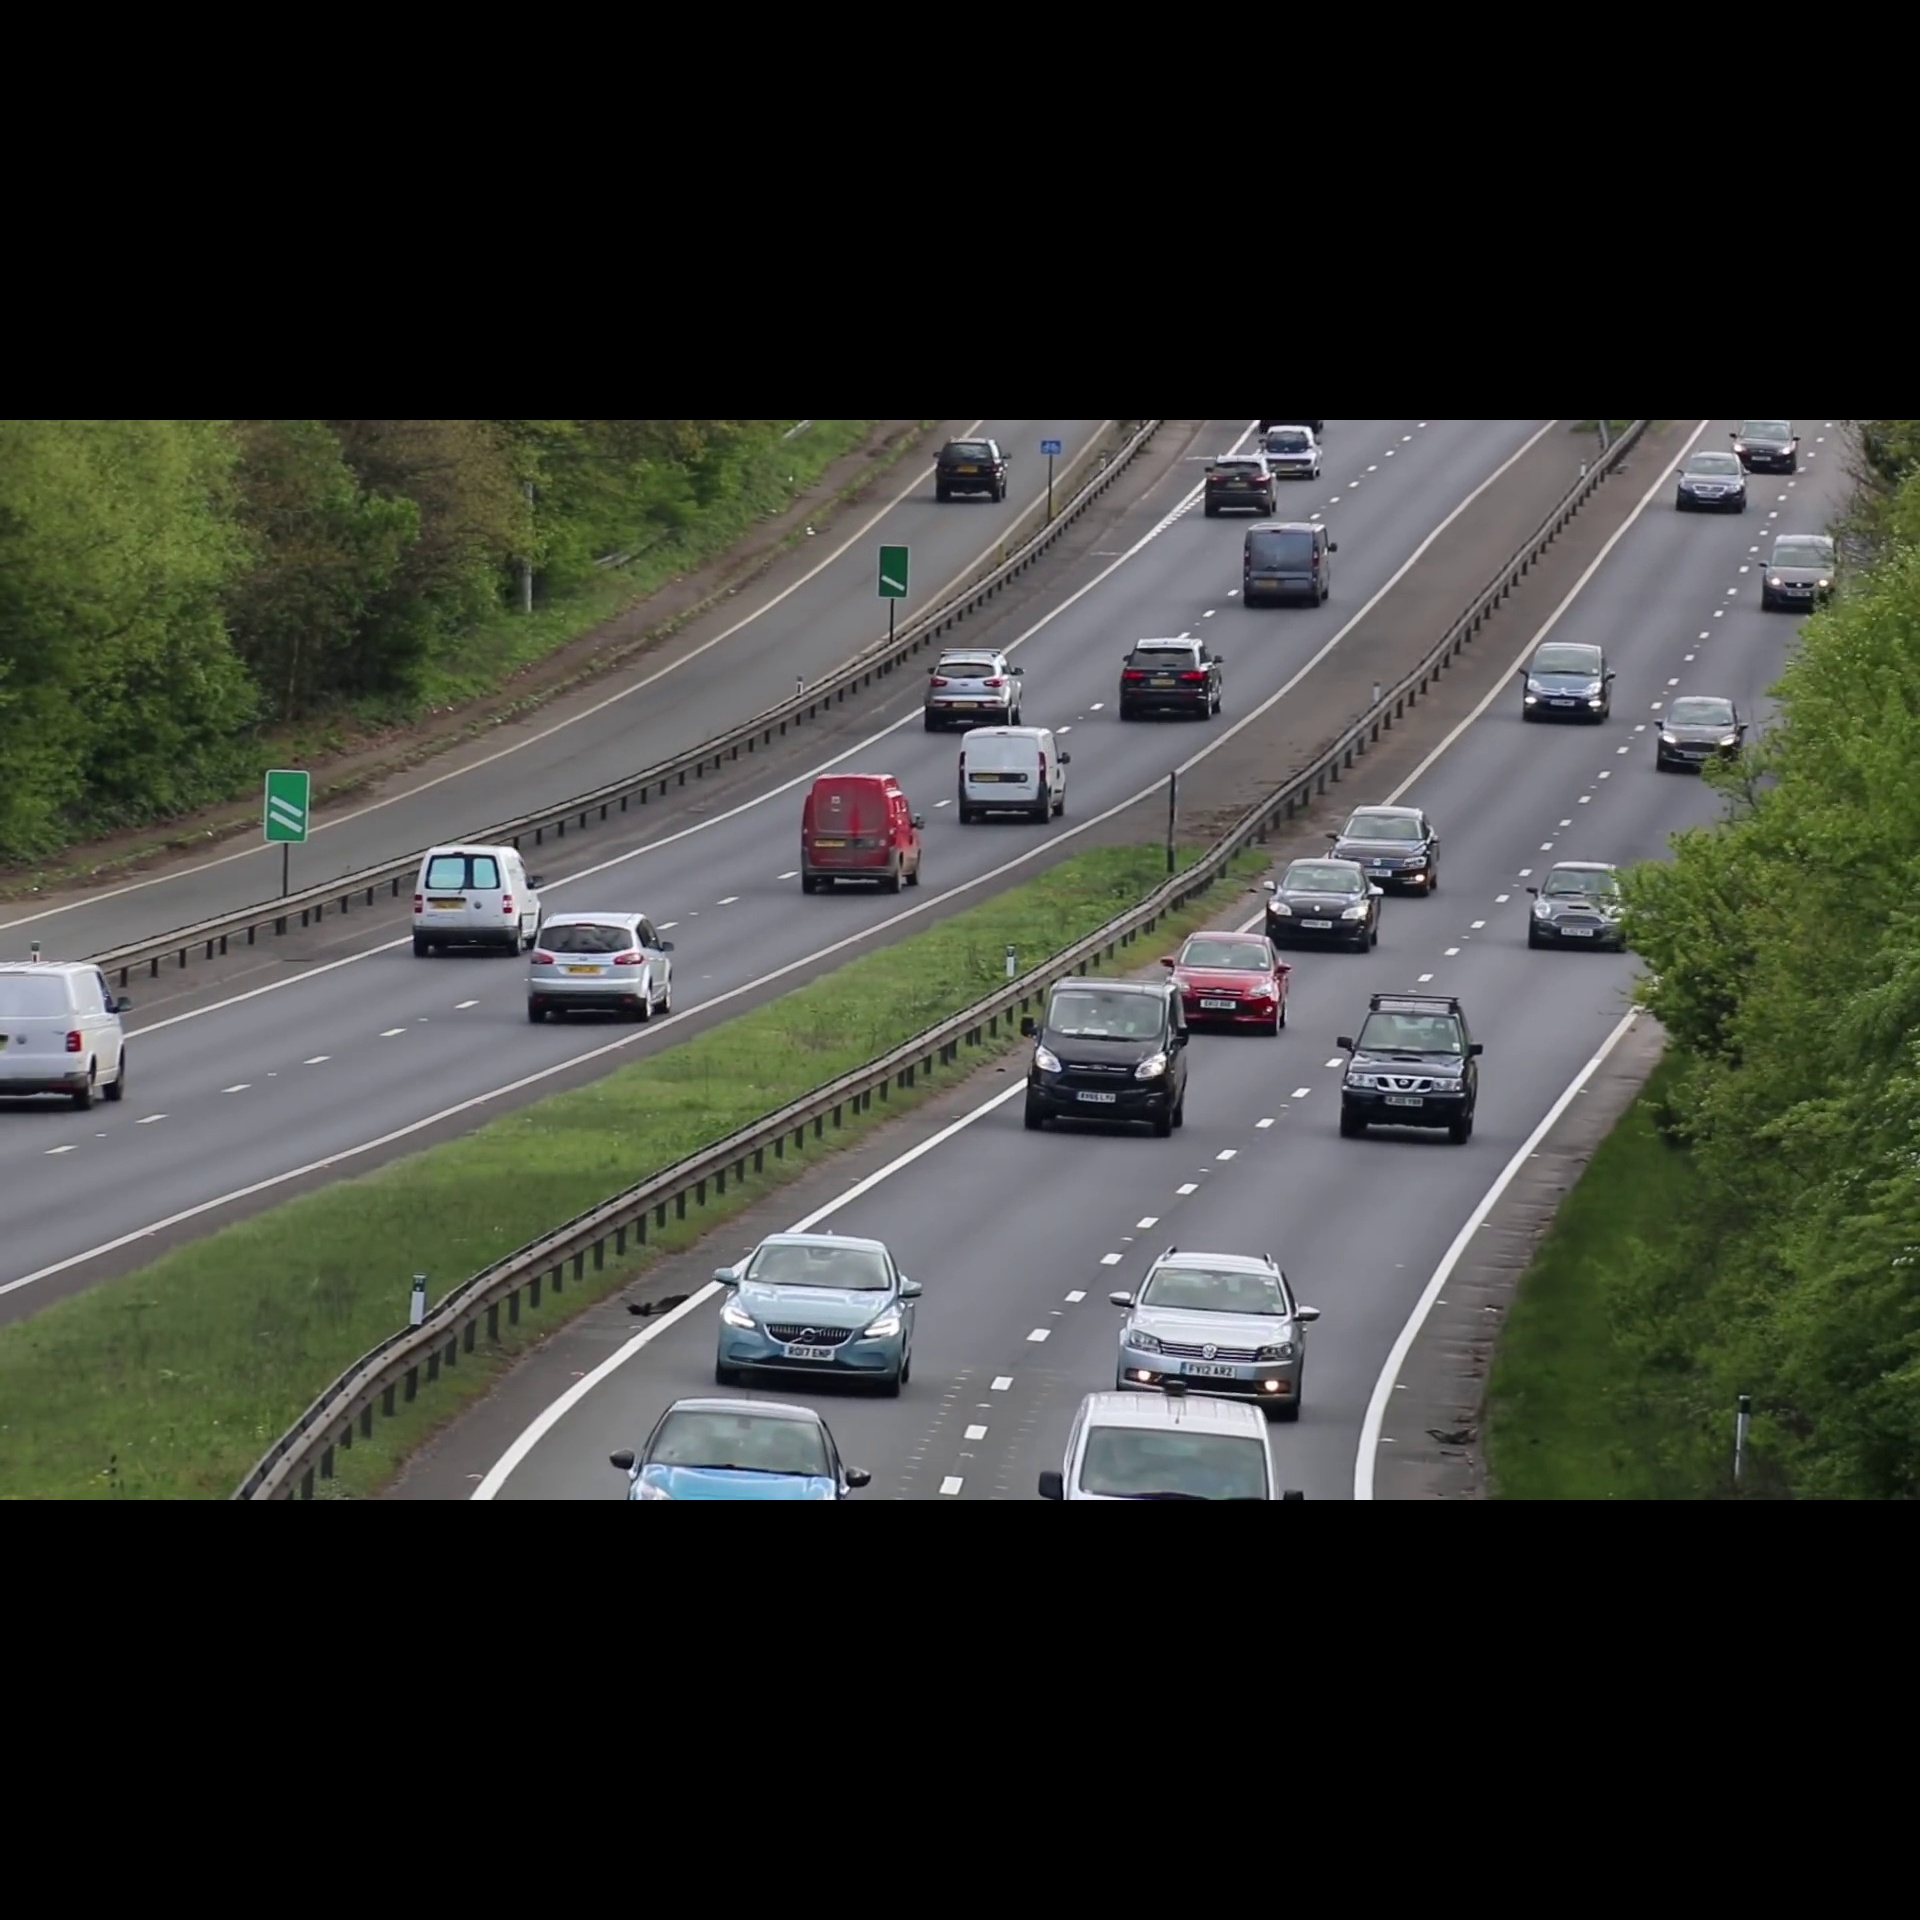vehicle: (703, 1225, 927, 1394), (1109, 1241, 1326, 1398), (1018, 978, 1196, 1143), (1037, 1393, 1306, 1500), (607, 1394, 872, 1502), (1335, 988, 1487, 1152), (2, 960, 134, 1115), (520, 909, 680, 1034), (795, 768, 928, 898), (411, 840, 542, 958), (1162, 932, 1291, 1037), (1517, 856, 1639, 958), (956, 724, 1071, 826), (1264, 856, 1382, 955), (1115, 638, 1225, 724), (1519, 638, 1618, 730), (1241, 520, 1340, 612), (923, 645, 1027, 731), (1329, 802, 1442, 881), (1649, 693, 1748, 777), (1756, 533, 1843, 614), (928, 434, 1013, 506), (1669, 452, 1751, 515), (1204, 454, 1280, 517), (1732, 420, 1800, 471), (1257, 427, 1320, 476)
